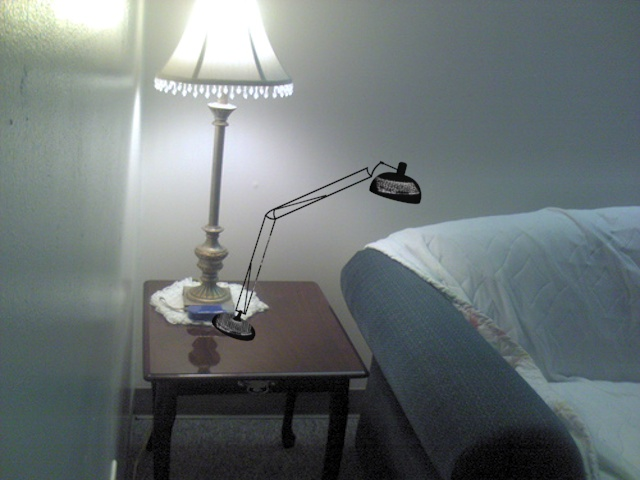desk_lamp: (209, 161, 426, 344)
